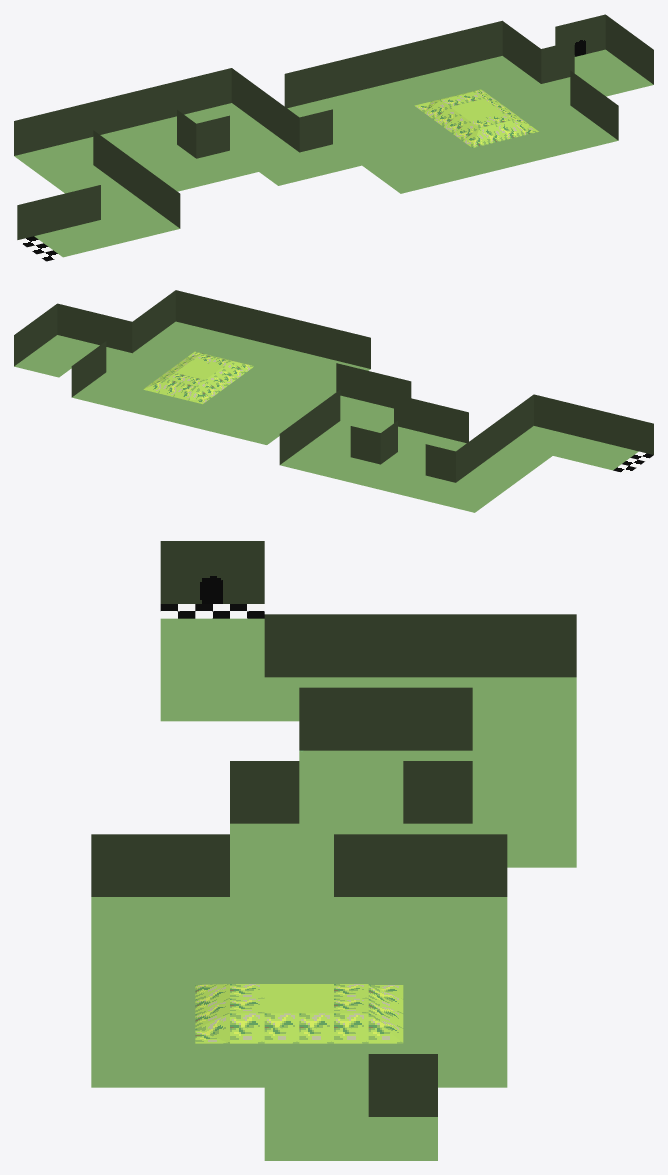
File: LevelOne_Clean.gltf
3 views of the same model, one above another, from view 1: azimuth 30°, elevation 25°; view 2: azimuth 150°, elevation 25°; view 3: azimuth 270°, elevation 25° (orthographic). The views are drawn at different scales.
Size of the model in its own units: 38 by 2 by 14.
2 materials, 2 textured.
